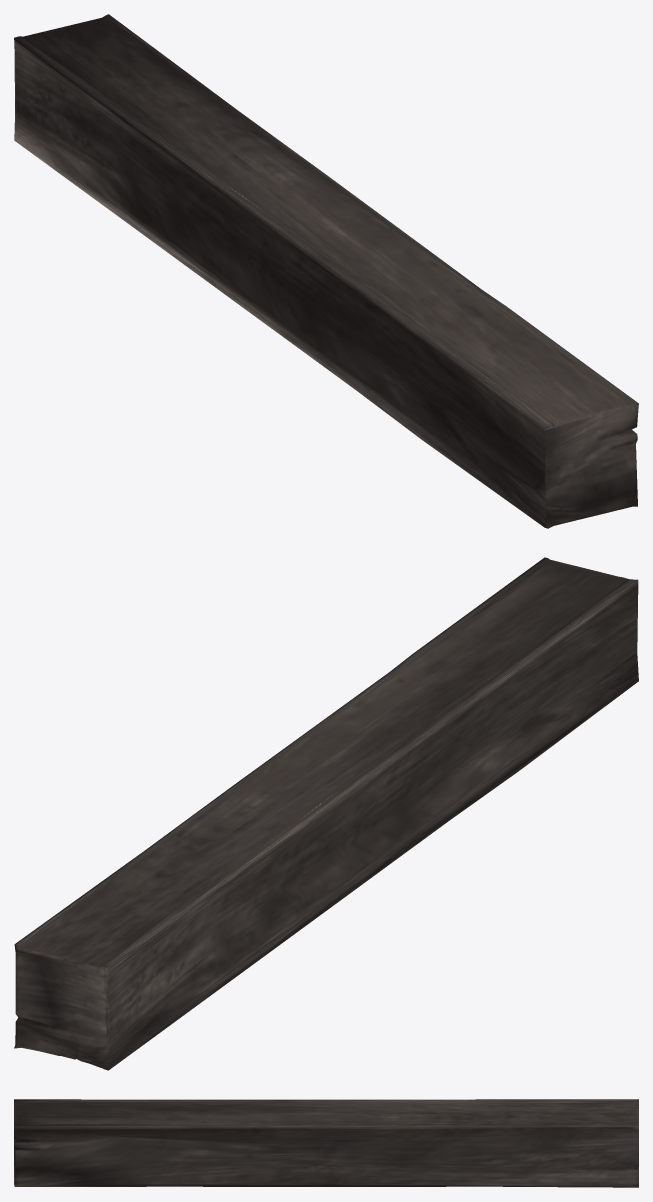
The model's file is wood1.FBX.
3 views of the same model, one above another, from view 1: azimuth 30°, elevation 25°; view 2: azimuth 150°, elevation 25°; view 3: azimuth 270°, elevation 25° (orthographic). The views are drawn at different scales.
Visible parts, largest first — view 1: Group30646; view 2: Group30646; view 3: Group30646.
Boxes of the visible parts, x1,y1,x2,y2 form: Group30646: [14, 14, 638, 528]; Group30646: [14, 557, 638, 1070]; Group30646: [14, 1099, 638, 1187].
Bounding box in the file's own units: 58.63 × 61.32 × 566.
1 material, 1 textured.
